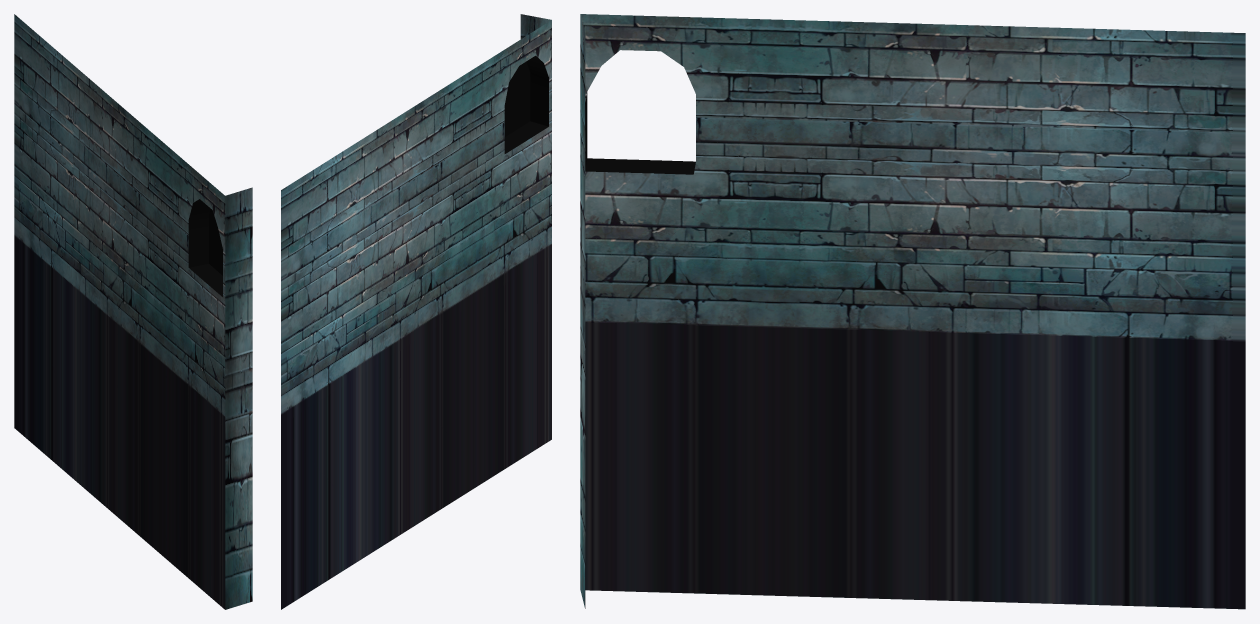
Rendered from Pared_Derecha 1.fbx.
The picture shows the model from 3 angles, left to right: view 1: azimuth 30°, elevation 25°; view 2: azimuth 150°, elevation 25°; view 3: azimuth 270°, elevation 25°; orthographic projection. The views are drawn at different scales.
Visible parts, largest first — view 1: Plane.011; view 2: Plane.011; view 3: Plane.011.
Boxes of the visible parts, x1,y1,x2,y2 form: Plane.011: (14, 14, 252, 609); Plane.011: (281, 14, 551, 609); Plane.011: (580, 14, 1245, 609).
Bounding box in the file's own units: 165 × 2237 × 2340.
Materials: 2 (1 with a texture image).
